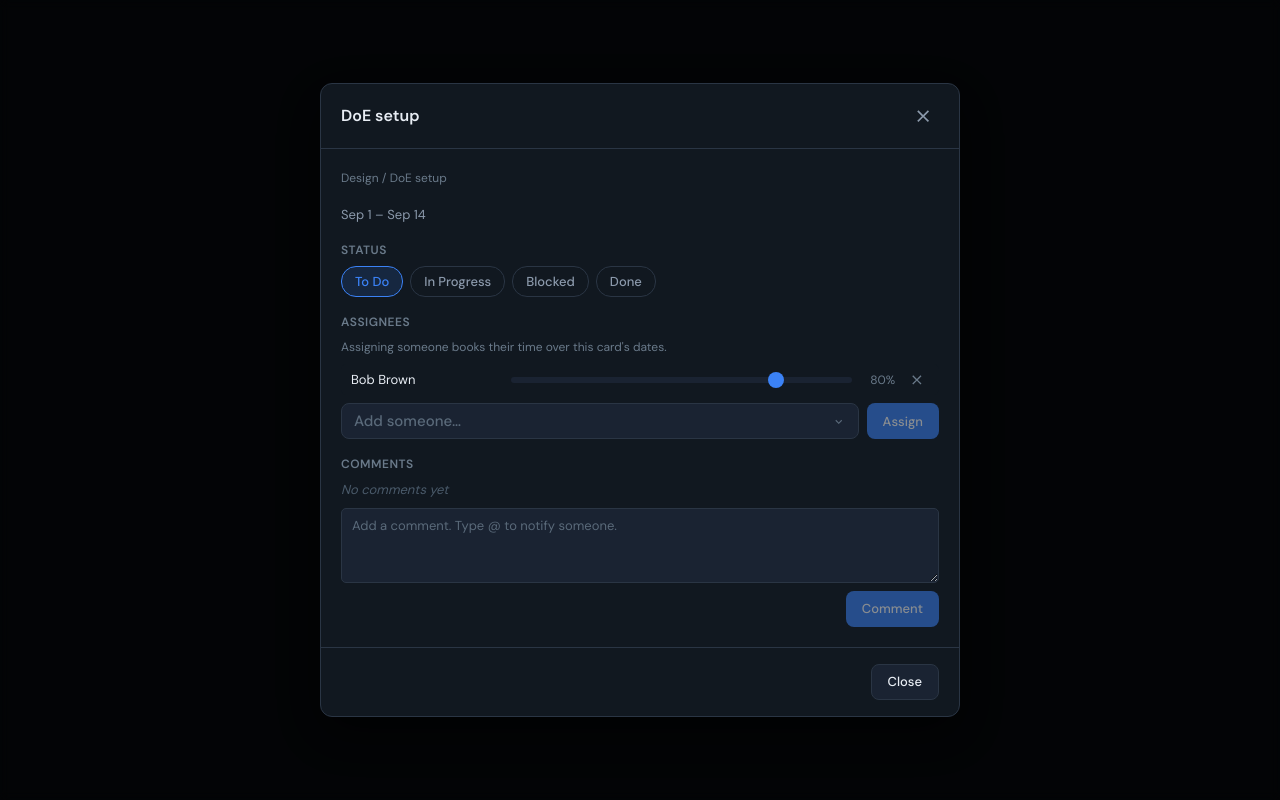
KanbanCardModal @-mentions › inserts the mention with ArrowDown then Enter
Type "hi @Ali" into the text box labelled "comment" at (640,545), box [342, 509, 938, 582]
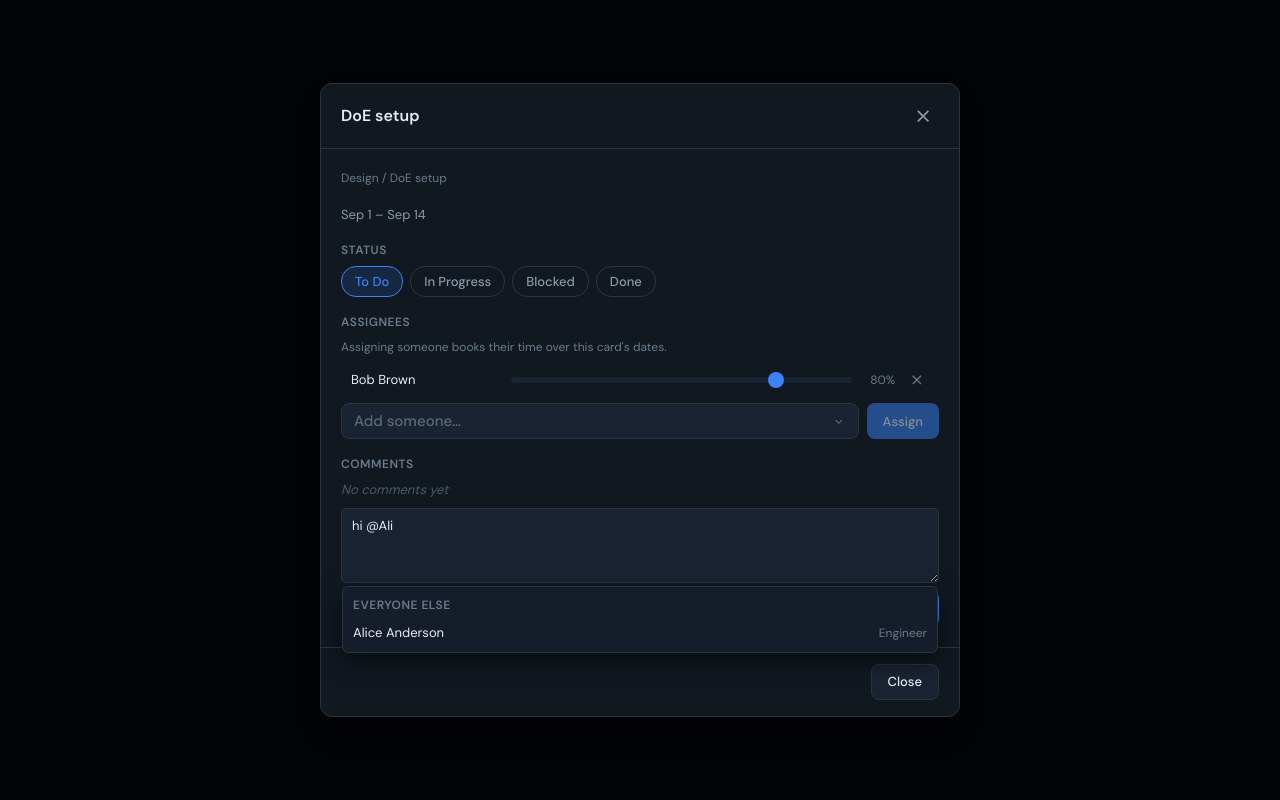
Press ArrowDown in the text box named "comment", box [342, 509, 938, 582]
Press Enter in the text box named "comment", box [342, 509, 938, 582]
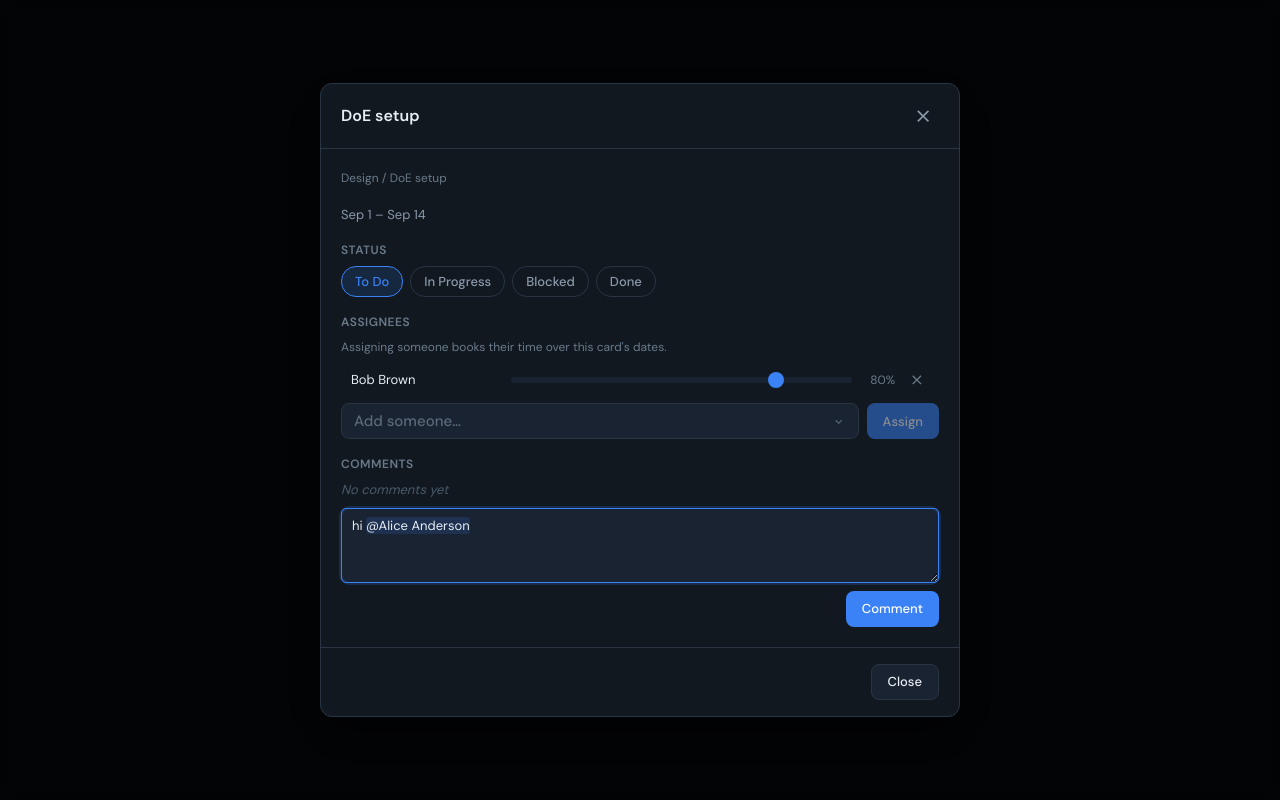
Check: the text box named "comment" holds "hi @Alice Anderson ", box [342, 509, 938, 582]
Check: the list "Everyone else Alice Anderson Engineer" is gone
